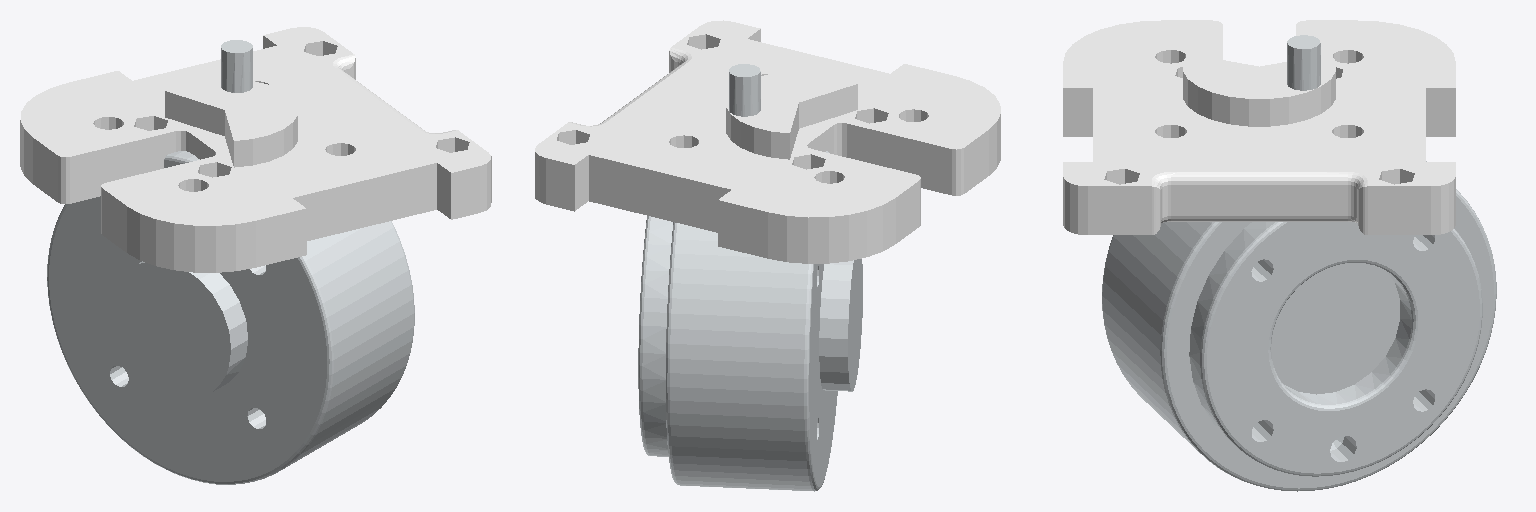
URDF robot description (Right_hand_full):
<robot
  name="Right_hand_full">
  <link
    name="base_link">
    <inertial>
      <origin
        xyz="-0.081263 -0.1051 0.094987"
        rpy="0 0 0" />
      <mass
        value="0.09497" />
      <inertia
        ixx="5.1014E-05"
        ixy="5.7163E-08"
        ixz="1.2364E-06"
        iyy="9.5615E-05"
        iyz="2.554E-08"
        izz="4.8799E-05" />
    </inertial>
    <visual>
      <origin
        xyz="0 0 0"
        rpy="0 0 0" />
      <geometry>
        <mesh
          filename="package://FT300_hand_full/meshes/base_link.STL" />
      </geometry>
      <material
        name="PLA">
        <color
          rgba="0 1 1 1" />
        <texture
          filename="" />
      </material>
    </visual>
    <collision>
      <origin
        xyz="0 0 0"
        rpy="0 0 0" />
      <geometry>
        <mesh
          filename="package://FT300_hand_full/meshes/base_link.STL" />
      </geometry>
    </collision>
  </link>
  <link
    name="Link_1">
    <inertial>
      <origin
        xyz="0.00023939 0.016676 0.00010696"
        rpy="0 0 0" />
      <mass
        value="0.3" />
      <inertia
        ixx="0.00018688"
        ixy="-2.933E-07"
        ixz="-1.585E-06"
        iyy="0.00028356"
        iyz="-1.3104E-07"
        izz="0.00018972" />
    </inertial>
    <visual>
      <origin
        xyz="0 0 0"
        rpy="0 0 0" />
      <geometry>
        <mesh
          filename="package://FT300_hand_full/meshes/Link_1.STL" />
      </geometry>
      <material
        name="356.0-T6">
        <color
          rgba="0.89804 0.91765 0.92941 1" />
      </material>
    </visual>
    <collision>
      <origin
        xyz="0 0 0"
        rpy="0 0 0" />
      <geometry>
        <mesh
          filename="package://FT300_hand_full/meshes/Link_1.STL" />
      </geometry>
    </collision>
  </link>
  <joint
    name="Joint_1"
    type="fixed">
    <origin
      xyz="0 -0.0053362 0.0187"
      rpy="1.5708 0 1.991" />
    <parent
      link="base_link" />
    <child
      link="Link_1" />
    <axis
      xyz="0 0 0" />
  </joint>
  <link
    name="Link_2">
    <inertial>
      <origin
        xyz="0.0047372 -0.013591 0.0060189"
        rpy="0 0 0" />
      <mass
        value="0.069702" />
      <inertia
        ixx="3.4708E-05"
        ixy="1.1553E-12"
        ixz="5.7154E-08"
        iyy="3.2833E-05"
        iyz="-3.8686E-14"
        izz="6.5643E-05" />
    </inertial>
    <visual>
      <origin
        xyz="0 0 0"
        rpy="0 0 0" />
      <geometry>
        <mesh
          filename="package://FT300_hand_full/meshes/Link_2.STL" />
      </geometry>
      <material
        name="PLA">
        <color
          rgba="1 1 1 1" />
        <texture
          filename="" />
      </material>
    </visual>
    <collision>
      <origin
        xyz="0 0 0"
        rpy="0 0 0" />
      <geometry>
        <mesh
          filename="package://FT300_hand_full/meshes/Link_2.STL" />
      </geometry>
    </collision>
  </link>
  <joint
    name="Joint_2"
    type="fixed">
    <origin
      xyz="-0.0048682 0.0482 0.01271"
      rpy="1.5708 -0.42018 0" />
    <parent
      link="Link_1" />
    <child
      link="Link_2" />
    <axis
      xyz="0 0 0" />
  </joint>
</robot>

--- Render facts (derived) ---
3 views of the same robot in one strip: view 1: azimuth 30°, elevation 25°; view 2: azimuth 150°, elevation 25°; view 3: azimuth 270°, elevation 25° (orthographic).
Robot: Right_hand_full — 3 links, 2 joints (2 fixed); root link base_link; default pose: every joint at zero.
Links seen in each view (by area): view 1: Link_1, Link_2; view 2: Link_2, Link_1; view 3: Link_1, Link_2.
Link boxes in pixels (<box>): Link_1: <box>47,40,414,484</box>; Link_2: <box>20,27,491,272</box>; Link_2: <box>535,20,1000,263</box>; Link_1: <box>638,64,862,491</box>; Link_1: <box>1102,35,1496,491</box>; Link_2: <box>1063,20,1455,234</box>.
Size in the robot's own frame: 0.08 by 0.0883 by 0.095 metres.
Meshes: 3 distinct files referenced, 2 mesh visuals loaded (2 binary STL); not drawn: 1 (reference not matched to a file when rendering).
